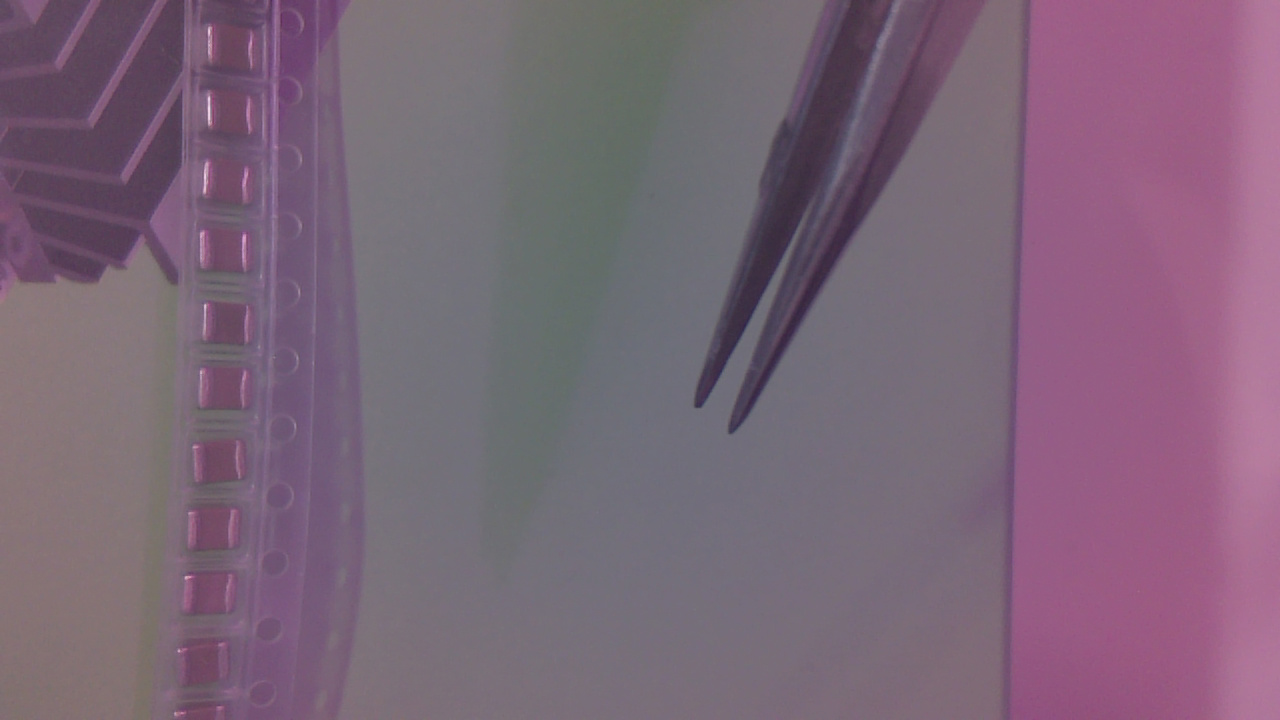Condensator: (213, 27, 266, 76), (204, 234, 258, 281), (209, 163, 258, 214), (210, 92, 262, 140), (198, 443, 251, 488), (207, 303, 261, 347), (206, 371, 256, 418), (193, 513, 245, 557), (187, 575, 241, 616), (184, 646, 231, 689)
